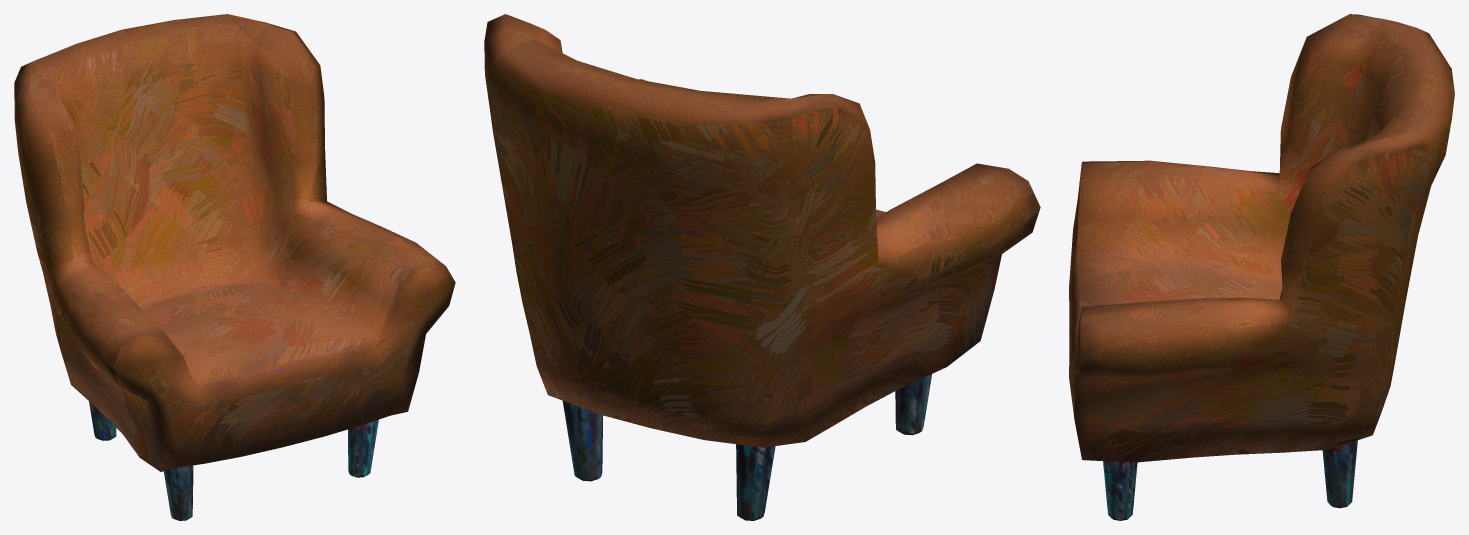
Rendered from armChair_final.fbx.
3 renders of one model, left to right at view 1: azimuth 30°, elevation 25°; view 2: azimuth 150°, elevation 25°; view 3: azimuth 270°, elevation 25°, orthographic. The views are drawn at different scales.
Visible parts, largest first — view 1: armchair_low, chairfeet_low; view 2: armchair_low, chairfeet_low; view 3: armchair_low, chairfeet_low.
Part boxes in pixels (x1=…): armchair_low: x1=14, y1=14, x2=455, y2=471; chairfeet_low: x1=89, y1=401, x2=378, y2=520; armchair_low: x1=484, y1=14, x2=1040, y2=447; chairfeet_low: x1=562, y1=374, x2=931, y2=520; armchair_low: x1=1069, y1=14, x2=1454, y2=462; chairfeet_low: x1=1103, y1=440, x2=1357, y2=520.
Bounding box in the file's own units: 188 × 189 × 169.
